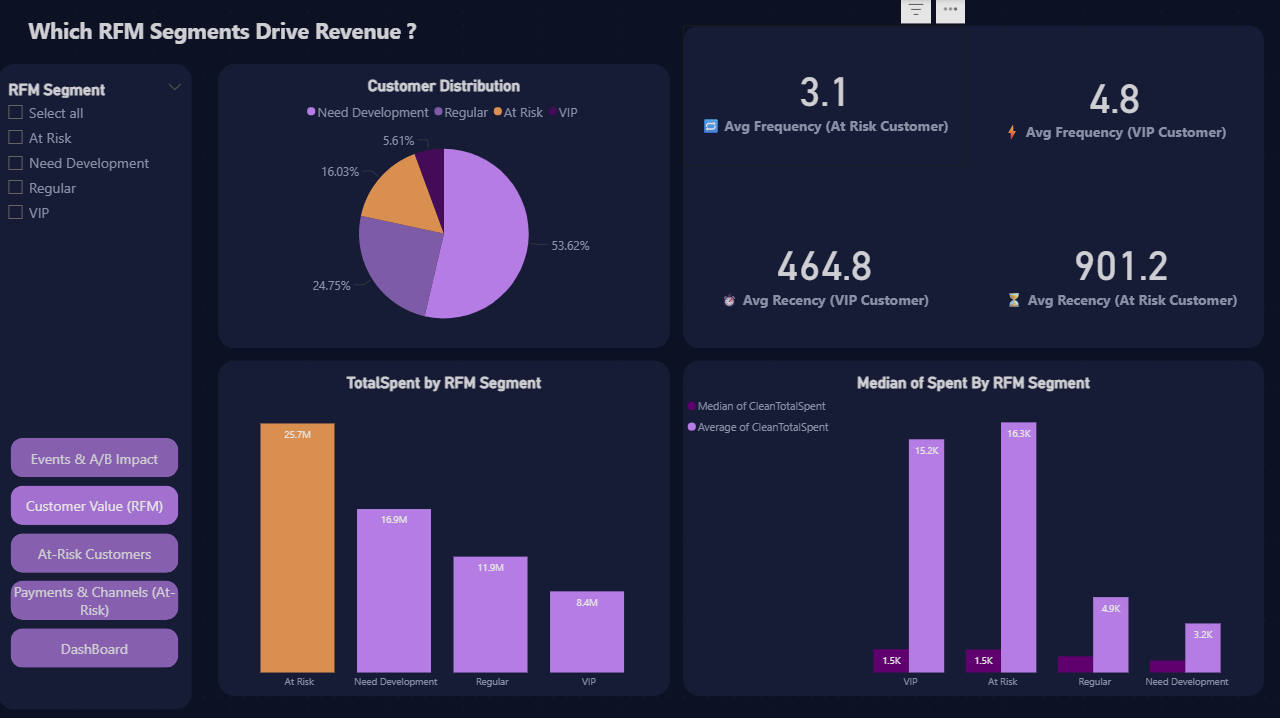

The dashboard page shown, as its layout file describes it:
{"tool":"powerbi","page":{"name":"Customer Value (RFM)","canvas":[1600,900],"ordinal":1},"visuals":[{"type":"shape","box":[272,80,560,352],"z":0},{"type":"shape","box":[0,80,240,800],"z":1000},{"type":"shape","box":[848,32,720,400],"z":2000},{"type":"shape","box":[848,448,720,416],"z":3000},{"type":"shape","box":[272,448,560,416],"z":4000},{"type":"shape","box":[864,48,576,336],"z":5000},{"type":"pieChart","title":"Customer Distribution","fields":{"Category":["arpand_ecommerce_dataset.RFM Category"],"Y":["CountNonNull(arpand_ecommerce_dataset.RFM Category)"]},"box":[272,96,560,336],"z":6000},{"type":"clusteredColumnChart","title":"Median of Spent By RFM Segment","fields":{"Category":["arpand_ecommerce_dataset.RFM Category"],"Y":["Median(arpand_ecommerce_dataset.CleanTotalSpent)","Avg(arpand_ecommerce_dataset.CleanTotalSpent)"]},"box":[848,464,720,400],"z":7000},{"type":"lineClusteredColumnComboChart","title":"TotalSpent by RFM Segment","fields":{"Category":["arpand_ecommerce_dataset.RFM Category"],"Y":["Sum(arpand_ecommerce_dataset.CleanTotalSpent)"]},"box":[272,464,560,400],"z":8000},{"type":"slicer","fields":{"Values":["arpand_ecommerce_dataset.RFM Segment"]},"box":[0,96,240,240],"z":9000},{"type":"card","fields":{"Values":["Measure Table.Avg Frequency (At Risk Customer)"]},"box":[848,32,352,176],"z":10000},{"type":"card","fields":{"Values":["Measure Table.Avg Recency (At Risk Customer)"]},"box":[1216,240,352,192],"z":11000},{"type":"card","fields":{"Values":["Measure Table.Avg Recency (VIP Customer)"]},"box":[864,240,320,192],"z":12000},{"type":"card","fields":{"Values":["Measure Table.Avg Frequency (VIP Customer)"]},"box":[1216,32,336,192],"z":13000},{"type":"pageNavigator","box":[16,544,208,288],"z":14000},{"type":"textbox","box":[32,16,560,64],"z":15000}]}

Visuals, with their boxes in screenshot pixels (x1, y1, x2, y2), scaled from the page's 1600x900 canvas onto the 1280x718 screenshot:
shape: <region>218, 64, 666, 345</region>
shape: <region>0, 64, 192, 702</region>
shape: <region>678, 26, 1254, 345</region>
shape: <region>678, 357, 1254, 689</region>
shape: <region>218, 357, 666, 689</region>
shape: <region>691, 38, 1152, 306</region>
"Customer Distribution" pieChart: <region>218, 77, 666, 345</region>
"Median of Spent By RFM Segment" clusteredColumnChart: <region>678, 370, 1254, 689</region>
"TotalSpent by RFM Segment" lineClusteredColumnComboChart: <region>218, 370, 666, 689</region>
slicer - arpand_ecommerce_dataset.RFM Segment: <region>0, 77, 192, 268</region>
card - Measure Table.Avg Frequency (At Risk Customer): <region>678, 26, 960, 166</region>
card - Measure Table.Avg Recency (At Risk Customer): <region>973, 191, 1254, 345</region>
card - Measure Table.Avg Recency (VIP Customer): <region>691, 191, 947, 345</region>
card - Measure Table.Avg Frequency (VIP Customer): <region>973, 26, 1242, 179</region>
pageNavigator: <region>13, 434, 179, 664</region>
textbox: <region>26, 13, 474, 64</region>
